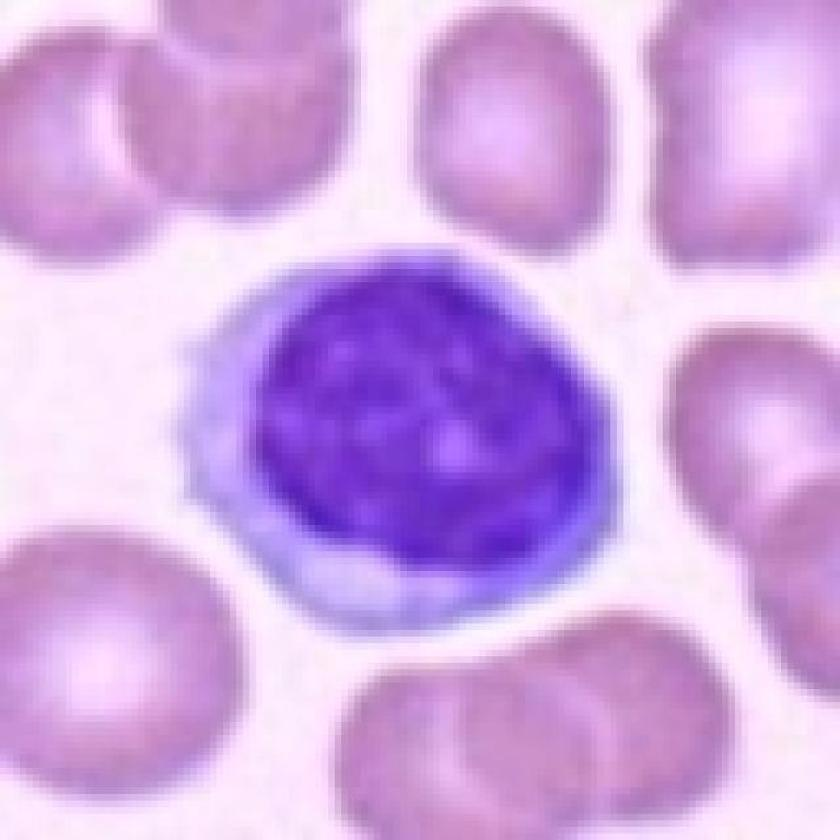lymphocyte: (170, 237, 643, 643)
